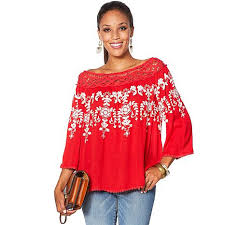C_blouse: (60, 58, 193, 192)
